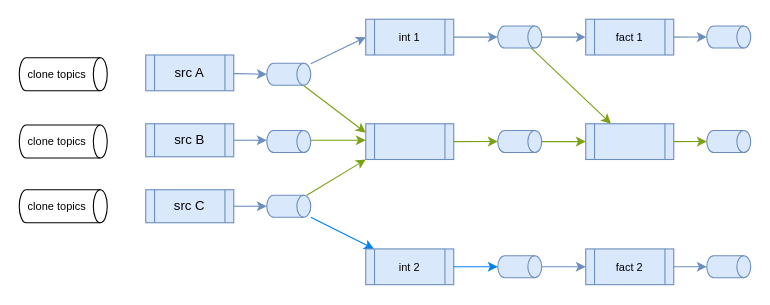
This 770x305 diagram has some shape labels left out. Each missing label, with the centre of its shape:
fact 3: (629,141)
int 3: (409,141)
